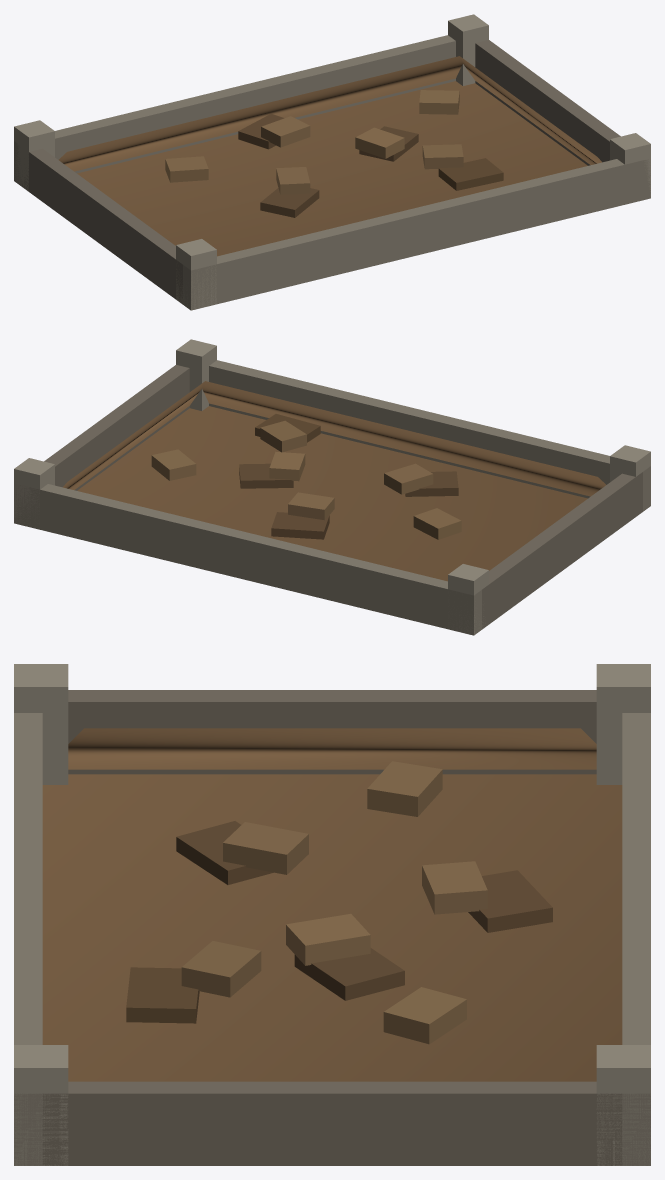
File: farm_bed.glb
3 renders of one model, top to bottom at view 1: azimuth 30°, elevation 25°; view 2: azimuth 150°, elevation 25°; view 3: azimuth 270°, elevation 25°, orthographic. The views are drawn at different scales.
Visible parts, largest first — view 1: FarmBody; view 2: FarmBody; view 3: FarmBody.
Boxes of the visible parts, x1,y1,x2,y2 form: FarmBody: [14, 14, 650, 310]; FarmBody: [14, 339, 650, 635]; FarmBody: [14, 664, 650, 1165].
Size of the model in its own units: 3 by 0.3399 by 2.
